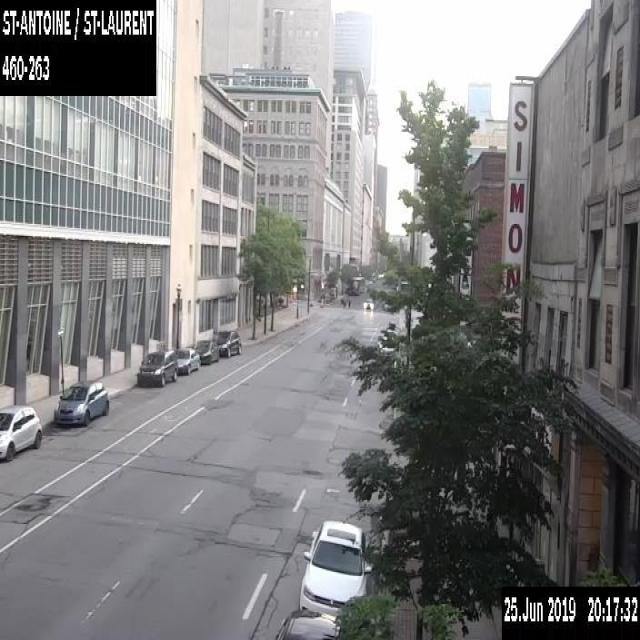bus: (350, 275, 364, 292)
vehicle: (299, 519, 371, 616), (53, 380, 109, 424), (0, 404, 42, 460), (276, 609, 342, 639), (136, 349, 178, 385), (215, 328, 241, 356), (174, 346, 200, 374), (194, 339, 218, 364), (377, 335, 395, 356), (383, 328, 398, 350), (363, 296, 373, 309)
